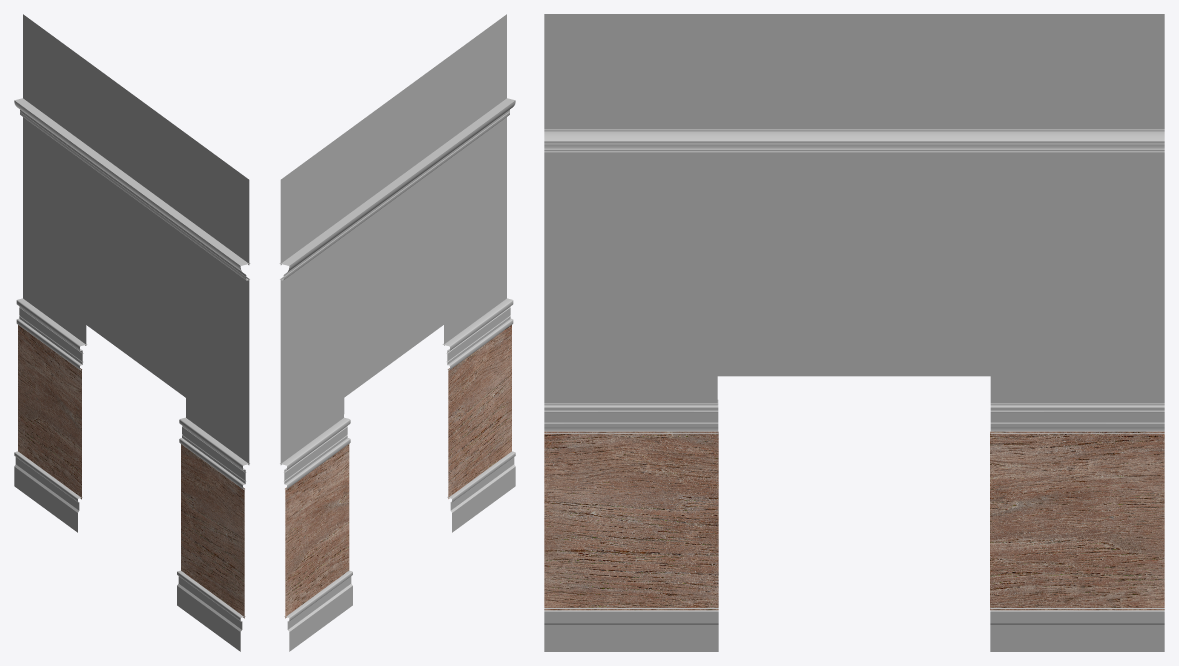
File: Basement_WallVentilation2.fbx
3 views of the same model, side by side, from view 1: azimuth 30°, elevation 25°; view 2: azimuth 150°, elevation 25°; view 3: azimuth 270°, elevation 25° (orthographic). The views are drawn at different scales.
Visible parts, largest first — view 1: Basement_WallVentilation; view 2: Basement_WallVentilation; view 3: Basement_WallVentilation.
Boxes of the visible parts, left/top/right/bottom form: Basement_WallVentilation: left=14, top=14, right=250, bottom=651; Basement_WallVentilation: left=279, top=14, right=515, bottom=651; Basement_WallVentilation: left=544, top=14, right=1164, bottom=651.
Bounding box in the file's own units: 0.1028 × 4.58 × 4.
